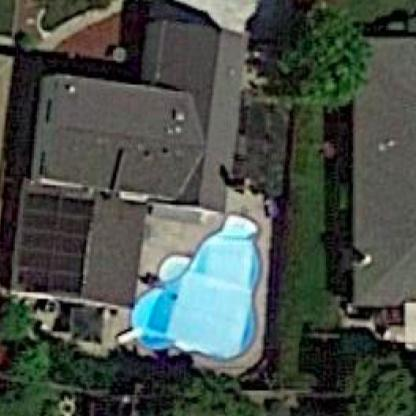solar_panel: (16, 185, 100, 306)
swimming_pool: (130, 208, 265, 369)
